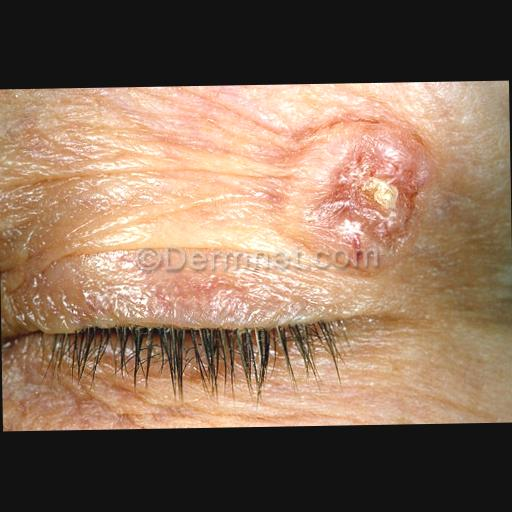Skin_Lesion: (291, 112, 435, 286)
